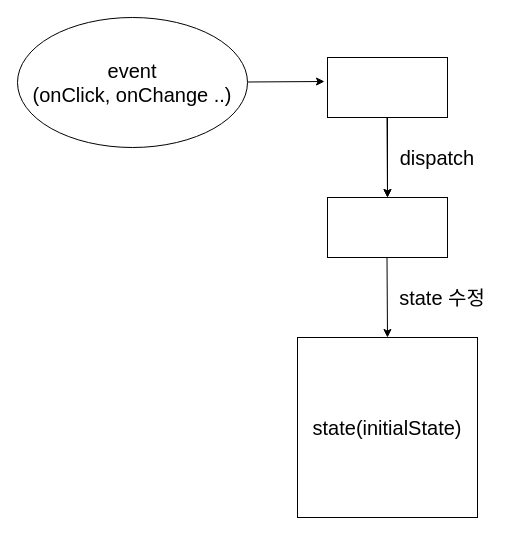
Image size: 525x535. Some labels were removed from this diagram. The box of each missing label's shape, as (x1, y1, x2, y2) in pixels:
Action: (326, 56, 448, 118)
reducer: (326, 196, 448, 258)
